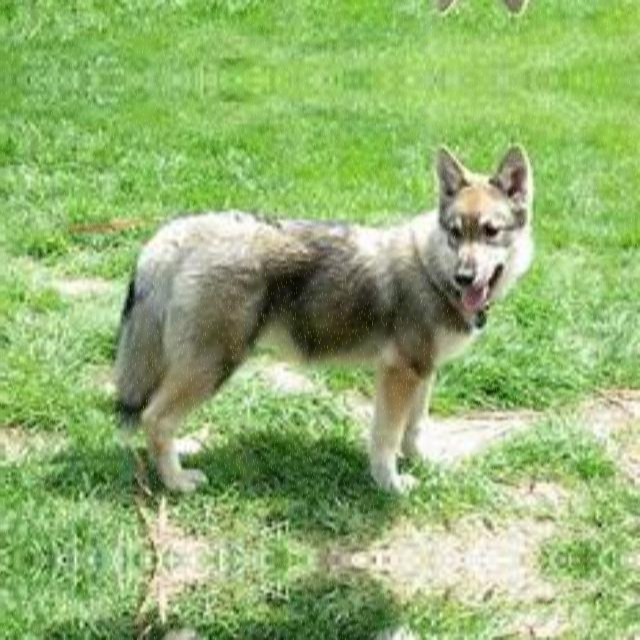dog: (31, 136, 543, 559), (31, 559, 544, 640), (31, 0, 544, 21)
